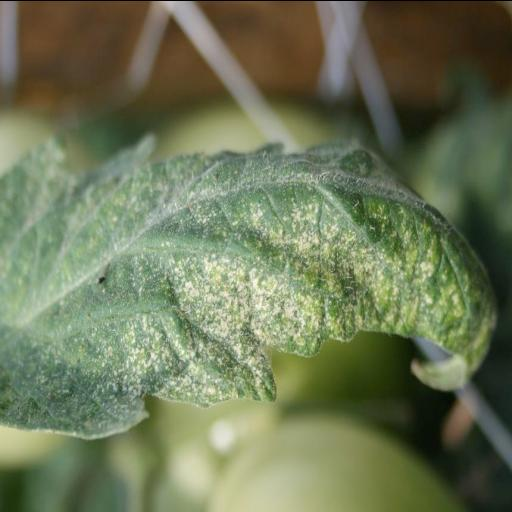disease_tomato: (0, 127, 501, 443)
